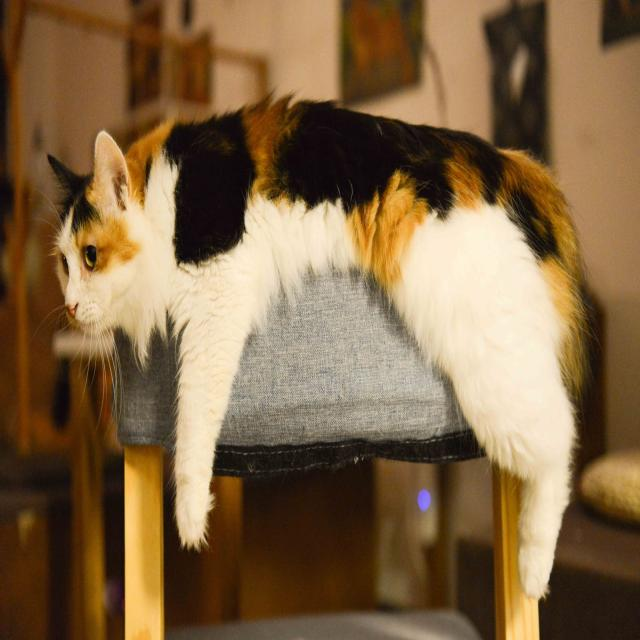Cat: (33, 86, 600, 602)
